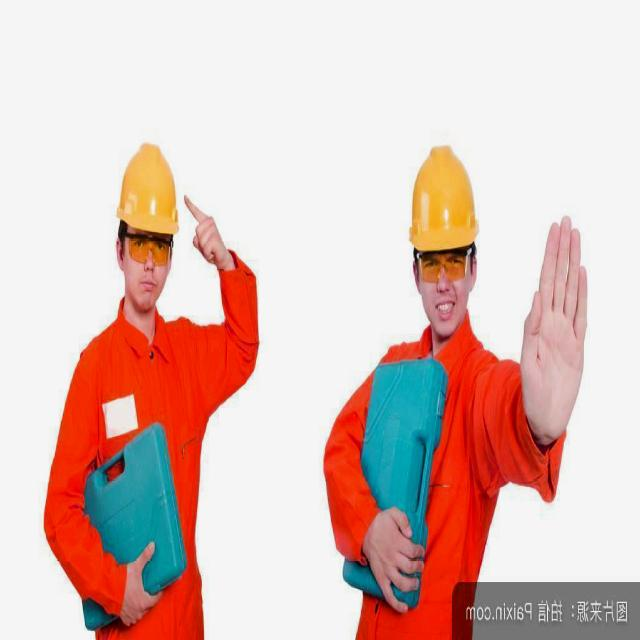face_nomask: (419, 239, 476, 340), (125, 226, 171, 307)
glasses: (416, 244, 478, 288), (128, 228, 172, 272)
hand_noglove: (508, 222, 597, 448), (362, 504, 424, 614), (113, 541, 164, 633), (182, 195, 230, 269)
head_helmet: (406, 141, 480, 246), (113, 140, 180, 236)
person: (322, 145, 589, 638), (46, 140, 262, 640)
